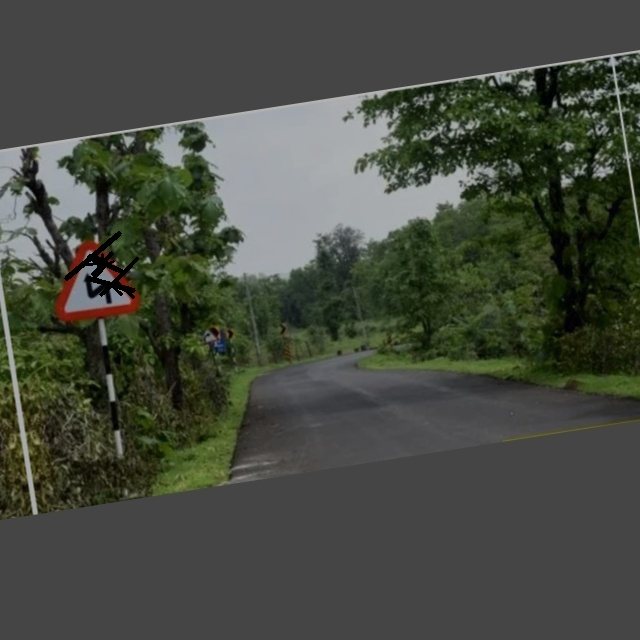Left_Reverse_Bend: (47, 233, 136, 323)
